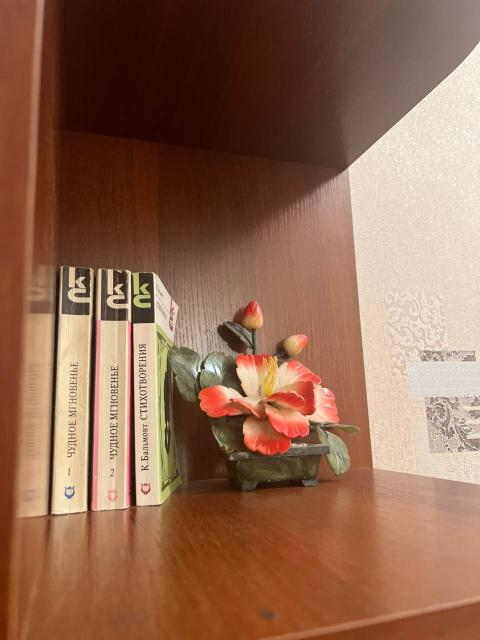book-s-spine: (51, 266, 94, 515), (92, 268, 131, 511), (132, 272, 160, 507)
